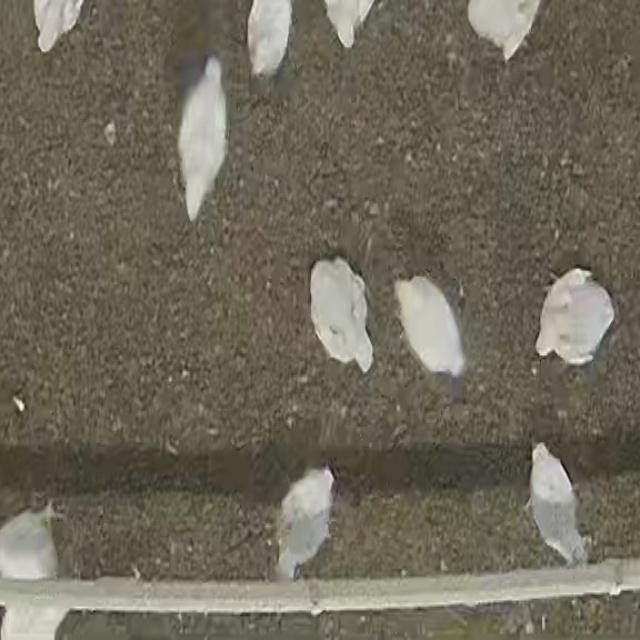chicken: (178, 63, 230, 221), (534, 268, 614, 370), (306, 259, 376, 375), (527, 440, 589, 567), (396, 276, 468, 380), (276, 463, 334, 583), (0, 498, 65, 580), (466, 1, 549, 62), (242, 0, 290, 85), (320, 1, 380, 49), (32, 2, 87, 54)
